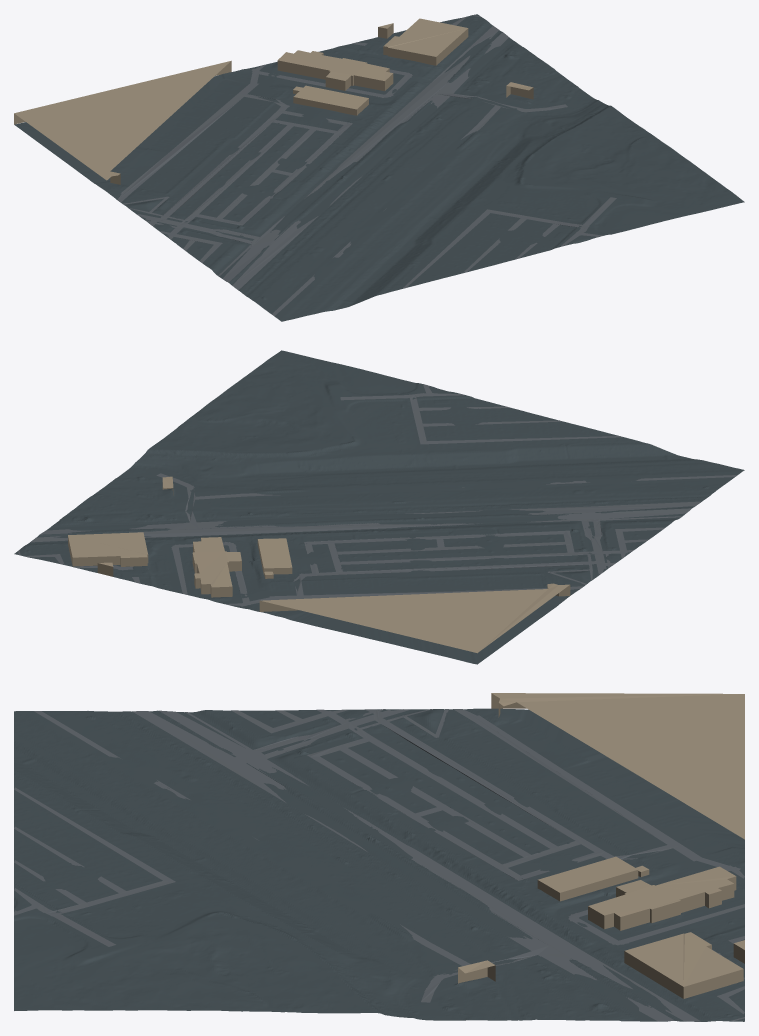
File: epsg26910-1444-10878.lod0.glb
3 views of the same model, one above another, from view 1: azimuth 30°, elevation 25°; view 2: azimuth 150°, elevation 25°; view 3: azimuth 270°, elevation 25° (orthographic). The views are drawn at different scales.
Parts seen in each view (by area): view 1: epsg26910-1444-10878-lod0; view 2: epsg26910-1444-10878-lod0; view 3: epsg26910-1444-10878-lod0.
Part boxes in pixels (x1,y1,x2,y2): epsg26910-1444-10878-lod0: (14,14,744,321); epsg26910-1444-10878-lod0: (14,350,744,664); epsg26910-1444-10878-lod0: (14,693,744,1021).
Bounding box in the file's own units: 384 × 11.88 × 384.
